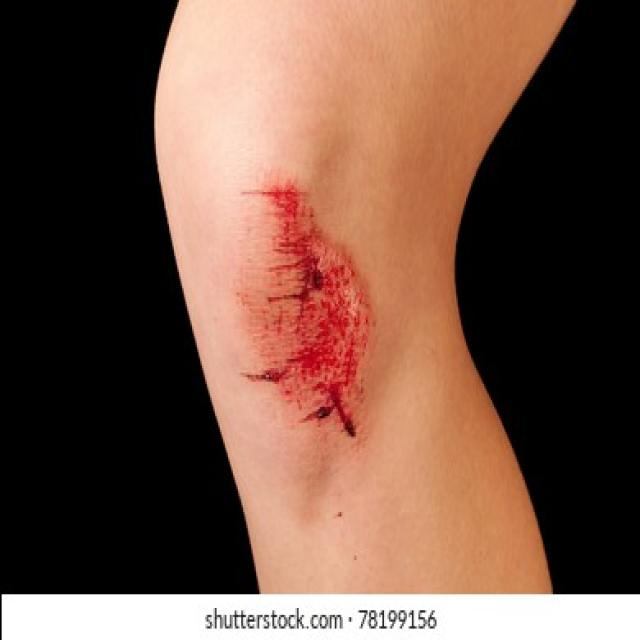Cut: (238, 160, 372, 457)
